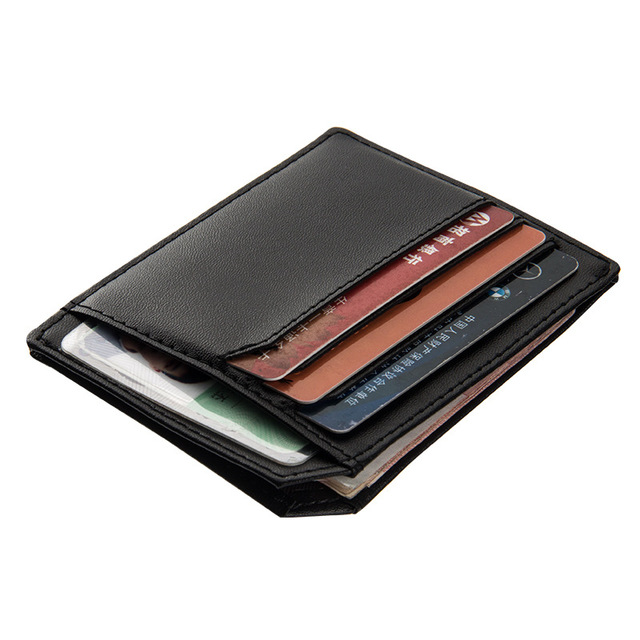monedero: (24, 125, 625, 521)
